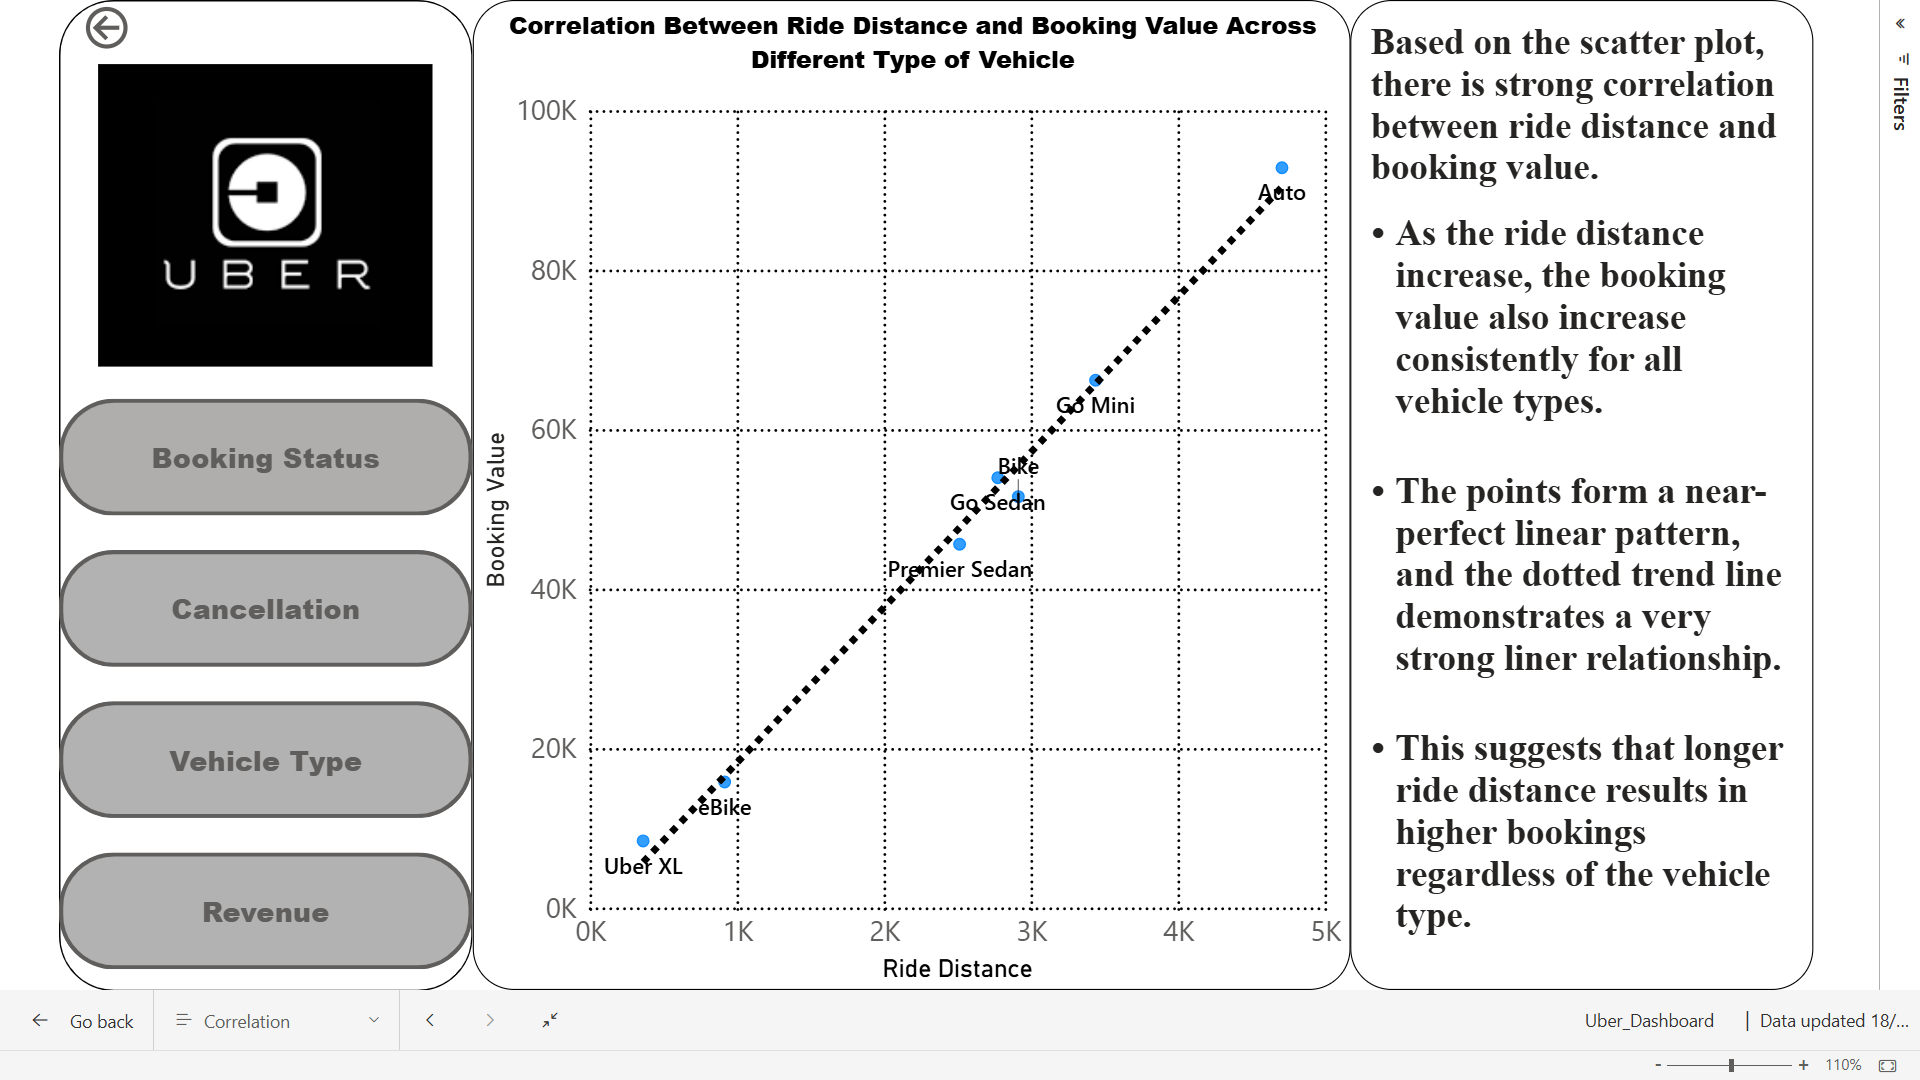

This screenshot's page, from the dashboard's own definition file:
{"tool":"powerbi","page":{"name":"Correlation ","canvas":[1280,720],"ordinal":5},"visuals":[{"type":"scatterChart","title":"Correlation Between Ride Distance and Booking Value Across Different Type of Vehicle","fields":{"Category":["NCR_Ride_Bookings.Vehicle Type"],"X":["Sum(NCR_Ride_Bookings.Ride Distance)"],"Y":["Sum(NCR_Ride_Bookings.Booking Value)"]},"box":[300.8,0,638.3,720.2],"z":0},{"type":"textbox","box":[939.1,0,337,720.2],"z":1000},{"type":"shape","box":[0,0,300.8,720.8],"z":2000},{"type":"actionButton","box":[14.7,0,44,40.4],"z":3000},{"type":"image","box":[24,42,253,230],"z":4000},{"type":"actionButton","box":[0,290,300.8,85],"z":5000},{"type":"actionButton","box":[0,400.5,300.8,85],"z":6000},{"type":"actionButton","box":[0,510,300.8,85],"z":7000},{"type":"actionButton","box":[0,620,300.8,85],"z":8000}]}

Visuals, with their boxes on the page's 1280x720 design canvas (x1, y1, x2, y2). These are canvas units, not pixel positions in the 1920x1080 screenshot, which may show the page scaled, cropped or inside an application window:
"Correlation Between Ride Distance and Booking Value Across Different Type of Vehicle" scatterChart: [x1=301, y1=0, x2=939, y2=720]
textbox: [x1=939, y1=0, x2=1276, y2=720]
shape: [x1=0, y1=0, x2=301, y2=721]
actionButton: [x1=15, y1=0, x2=59, y2=40]
image: [x1=24, y1=42, x2=277, y2=272]
actionButton: [x1=0, y1=290, x2=301, y2=375]
actionButton: [x1=0, y1=400, x2=301, y2=486]
actionButton: [x1=0, y1=510, x2=301, y2=595]
actionButton: [x1=0, y1=620, x2=301, y2=705]
